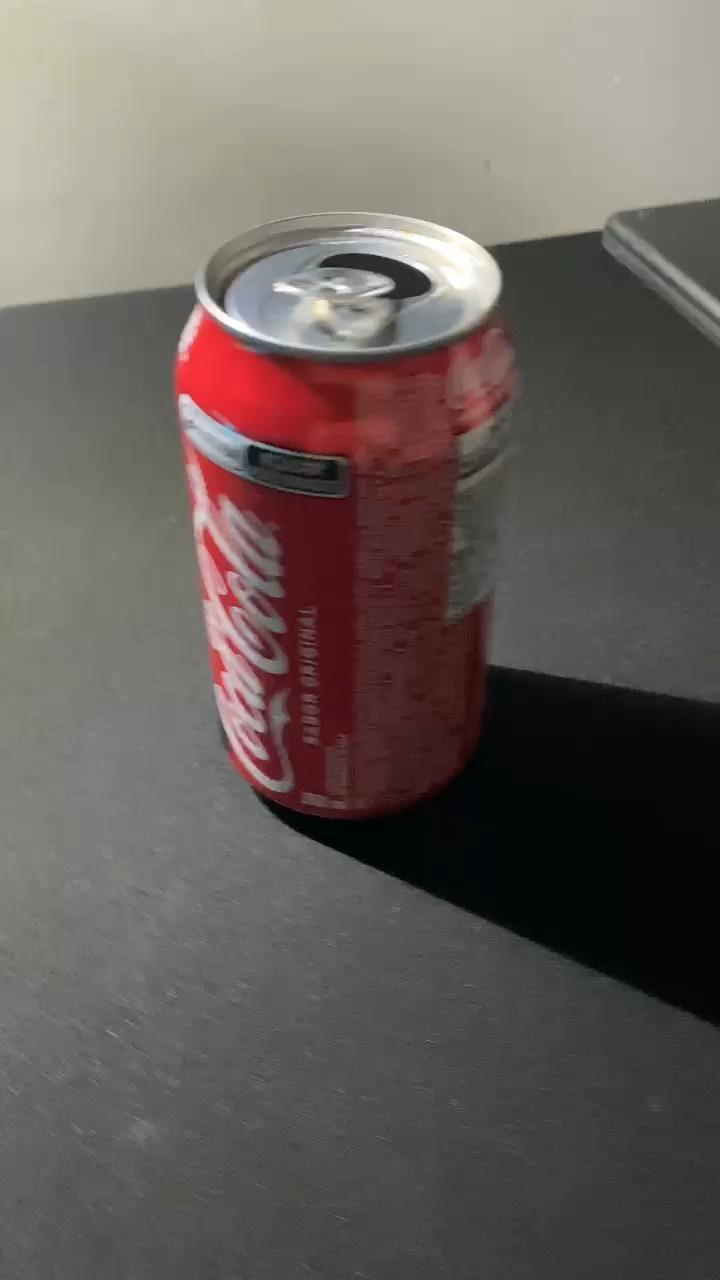coke: (170, 210, 518, 821)
